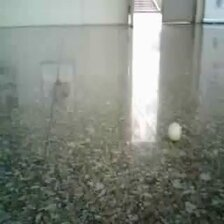w: (166, 121, 184, 142)
